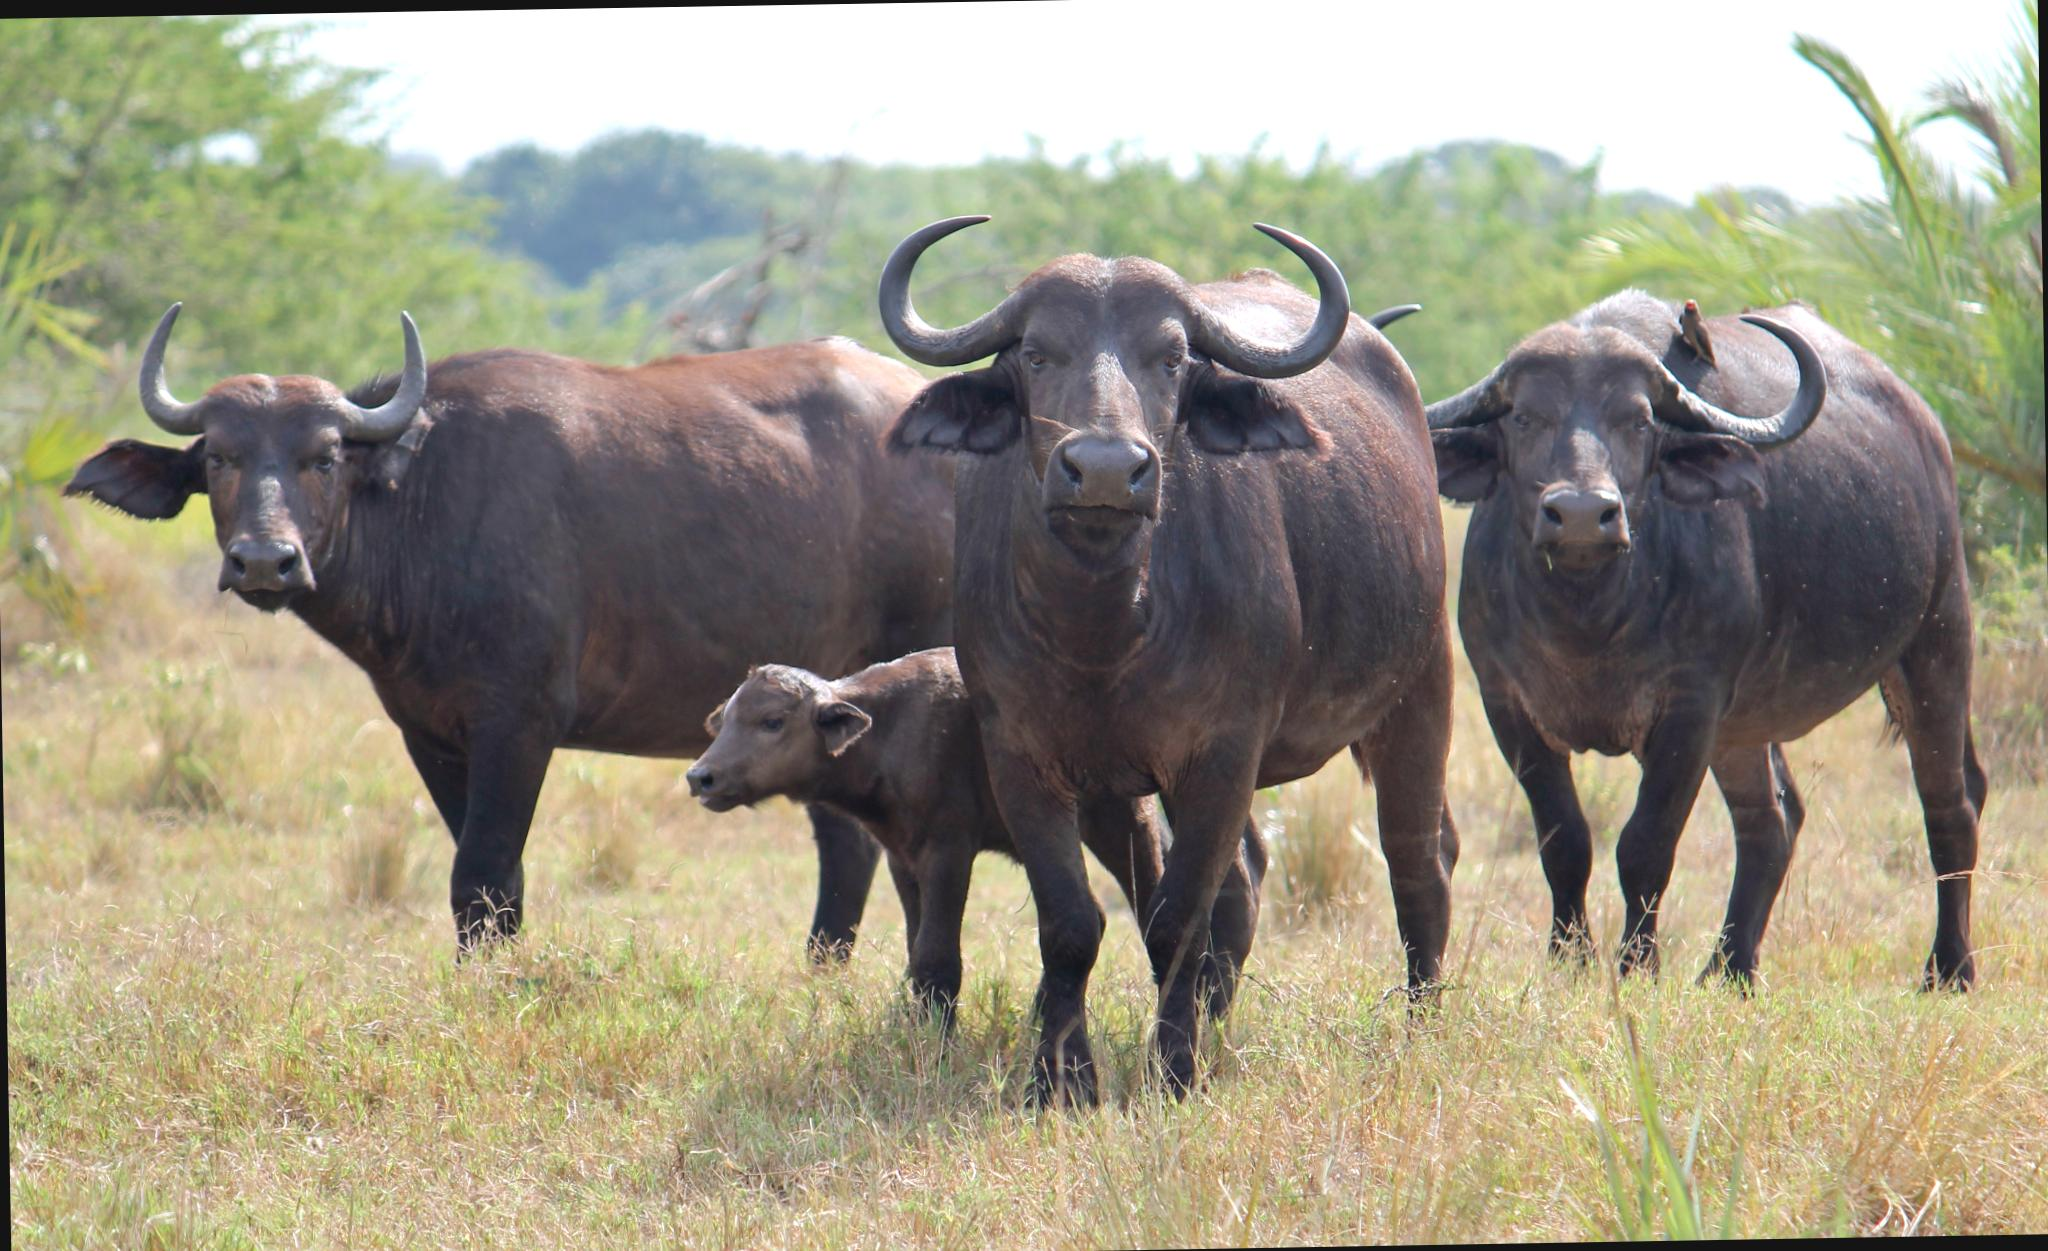Buffalo: (31, 149, 2009, 1217)
